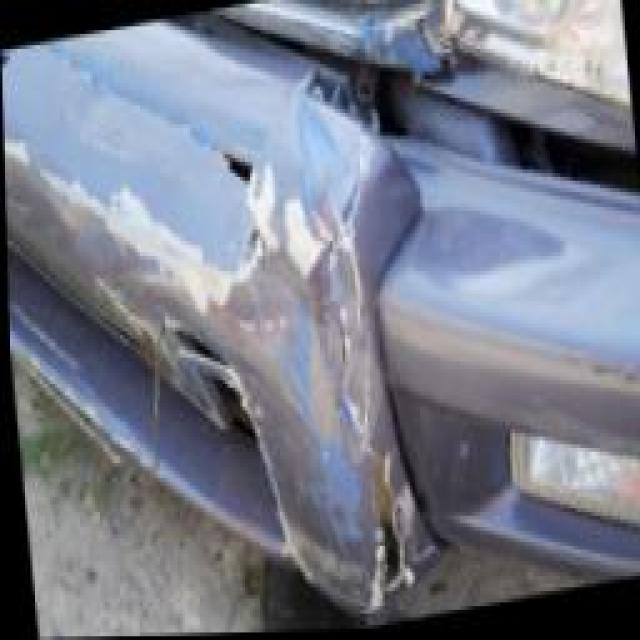Bumper: (2, 49, 462, 640)
